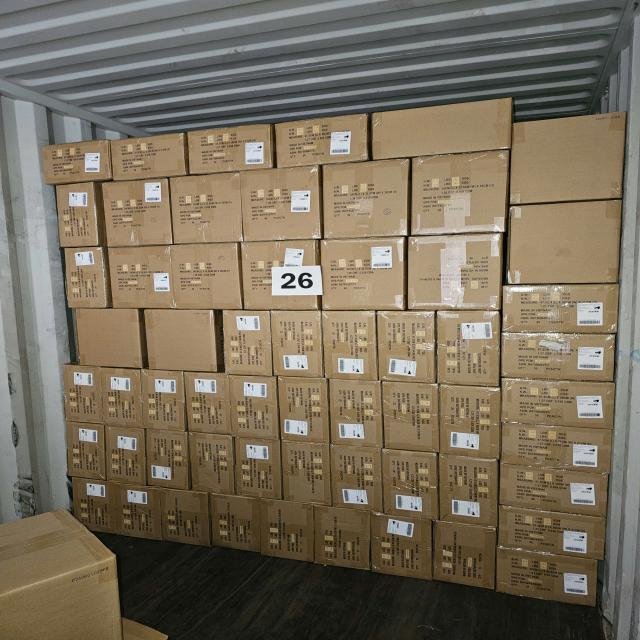Carton: (504, 286, 620, 389), (516, 111, 625, 204), (510, 206, 622, 289), (374, 101, 512, 159), (411, 156, 508, 236), (404, 235, 501, 313), (321, 163, 409, 242), (498, 504, 611, 564), (500, 419, 616, 475), (319, 239, 404, 313), (499, 461, 609, 518), (242, 170, 324, 244), (498, 550, 601, 608), (241, 241, 324, 311), (504, 336, 618, 384), (503, 382, 617, 430), (172, 172, 245, 244), (144, 310, 220, 375), (438, 312, 502, 388), (272, 116, 365, 168), (173, 243, 244, 310), (102, 180, 174, 246), (441, 385, 503, 460), (432, 521, 494, 594), (376, 312, 437, 385), (74, 310, 145, 371), (440, 458, 500, 529), (108, 246, 174, 310), (384, 380, 442, 452), (372, 514, 434, 581), (380, 451, 437, 521), (324, 313, 379, 385), (190, 128, 276, 174), (330, 379, 384, 449), (315, 507, 372, 572), (331, 446, 384, 514), (112, 133, 187, 180), (261, 500, 314, 566), (271, 311, 322, 378), (277, 378, 328, 444), (220, 311, 270, 376), (280, 442, 330, 506), (67, 475, 116, 539), (232, 376, 281, 439), (40, 140, 111, 183), (210, 497, 260, 556), (189, 433, 236, 495), (237, 440, 284, 501), (186, 374, 232, 436), (62, 247, 108, 309), (57, 183, 101, 246), (142, 370, 187, 431), (164, 492, 212, 549), (116, 487, 162, 542), (145, 434, 188, 492), (62, 367, 101, 425), (66, 423, 105, 480), (108, 430, 146, 488)
